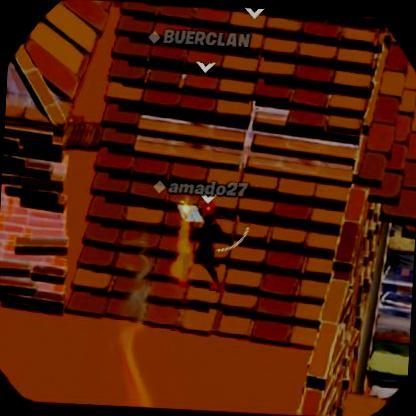person: (192, 201, 228, 299)
